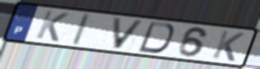6: (176, 27, 210, 58)
D: (136, 20, 177, 54)
I: (70, 12, 93, 47)
K: (33, 9, 70, 43), (209, 29, 246, 63)
V: (111, 16, 147, 50)
